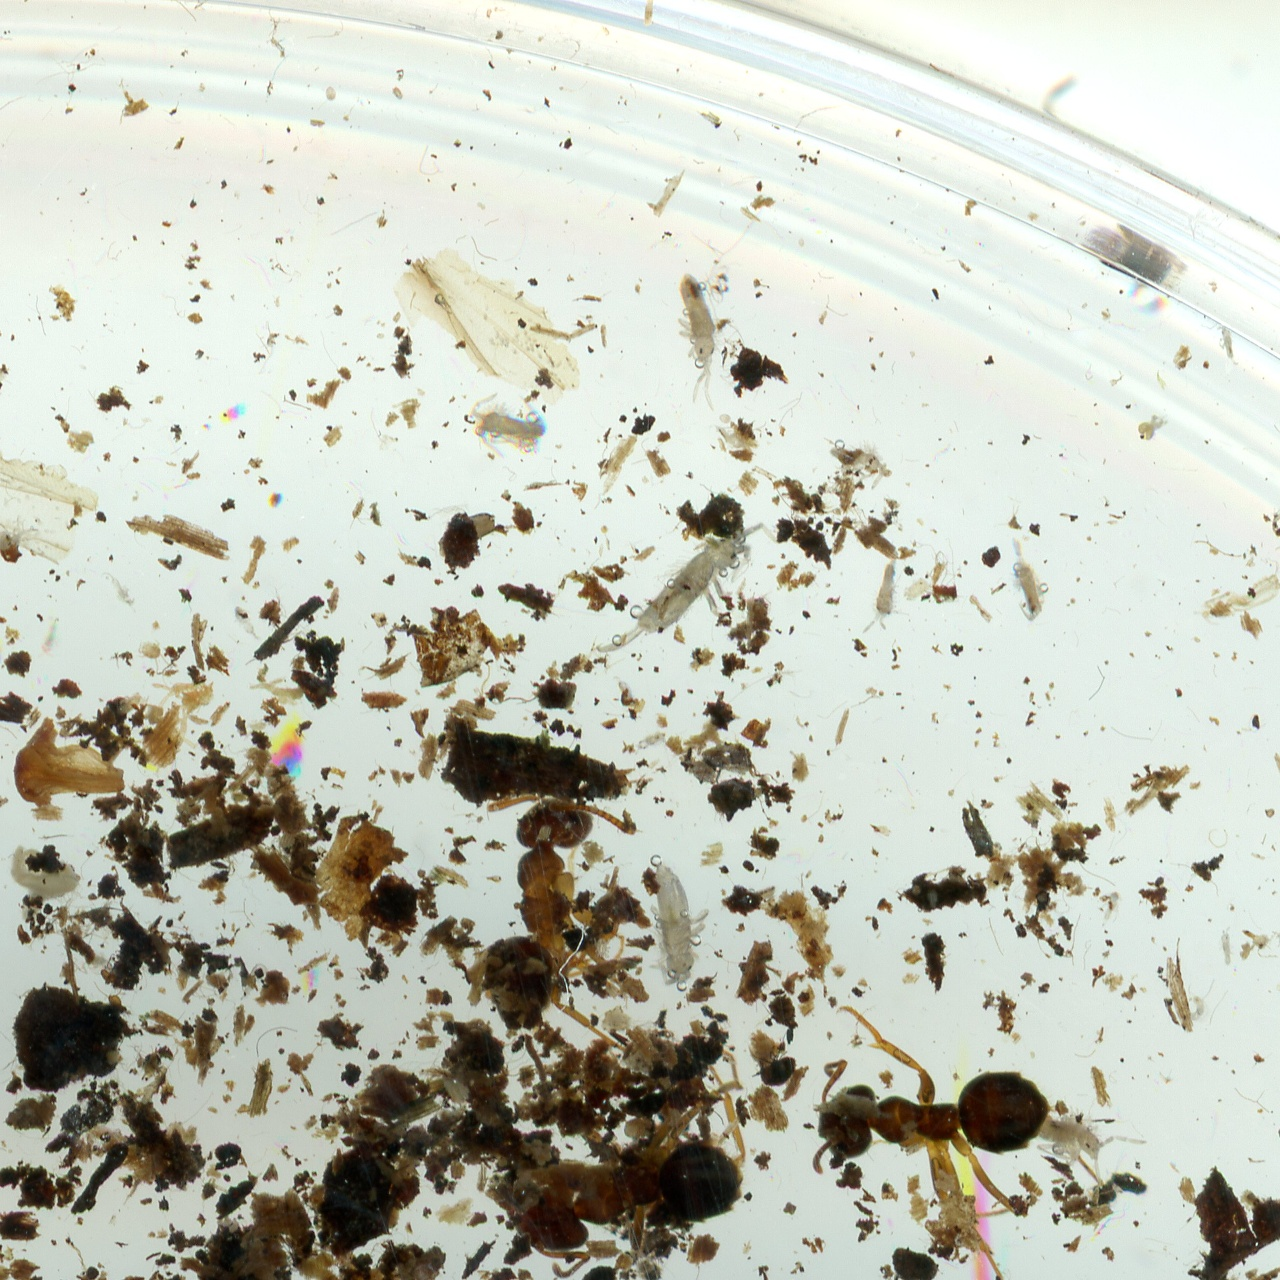arthropod: (782, 961, 1078, 1280), (488, 1030, 754, 1280), (455, 787, 646, 1056), (590, 488, 787, 699), (648, 862, 717, 989), (1043, 1096, 1144, 1180), (674, 271, 726, 410), (811, 422, 898, 495), (463, 390, 551, 462), (1003, 530, 1060, 632), (148, 680, 219, 751), (859, 550, 911, 644), (1198, 567, 1280, 626), (220, 597, 270, 651), (100, 567, 143, 613), (135, 636, 179, 678), (1098, 887, 1125, 935), (627, 728, 669, 758), (35, 614, 61, 662), (608, 673, 640, 710), (1216, 325, 1242, 368), (1187, 982, 1210, 1023), (1219, 930, 1237, 967)
